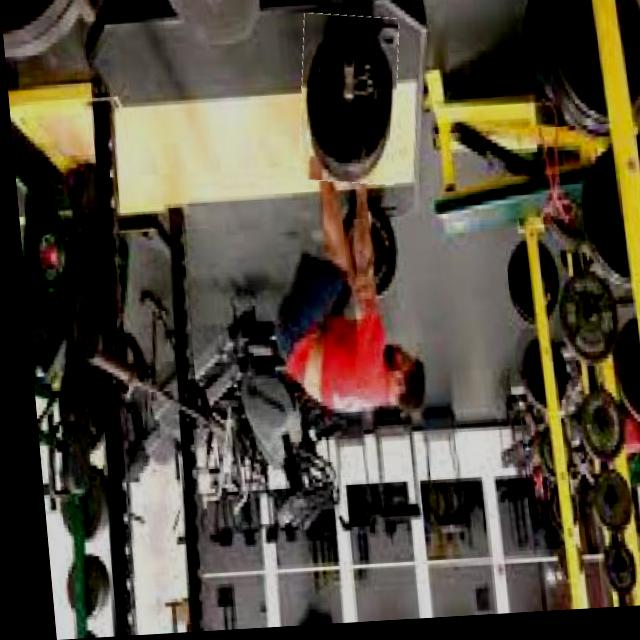barbell: (291, 16, 406, 192)
